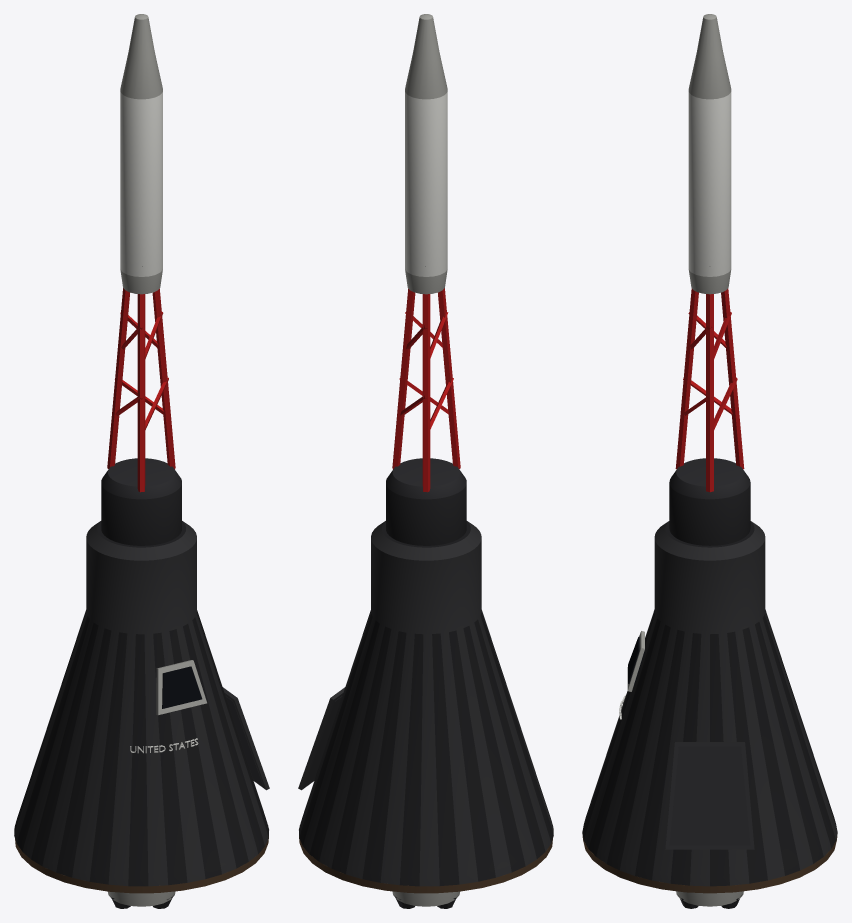
Rendered from mercury.glb.
3 views of the same model, side by side, from view 1: azimuth 30°, elevation 25°; view 2: azimuth 150°, elevation 25°; view 3: azimuth 270°, elevation 25° (orthographic).
Visible parts, largest first — view 1: model; view 2: model; view 3: model.
Boxes of the visible parts, left/top/right/bottom form: model: left=14, top=14, right=269, bottom=908; model: left=298, top=14, right=553, bottom=908; model: left=582, top=14, right=837, bottom=908.
Size of the model in its own units: 1.89 by 7.24 by 1.89.
1 material, 1 textured.
